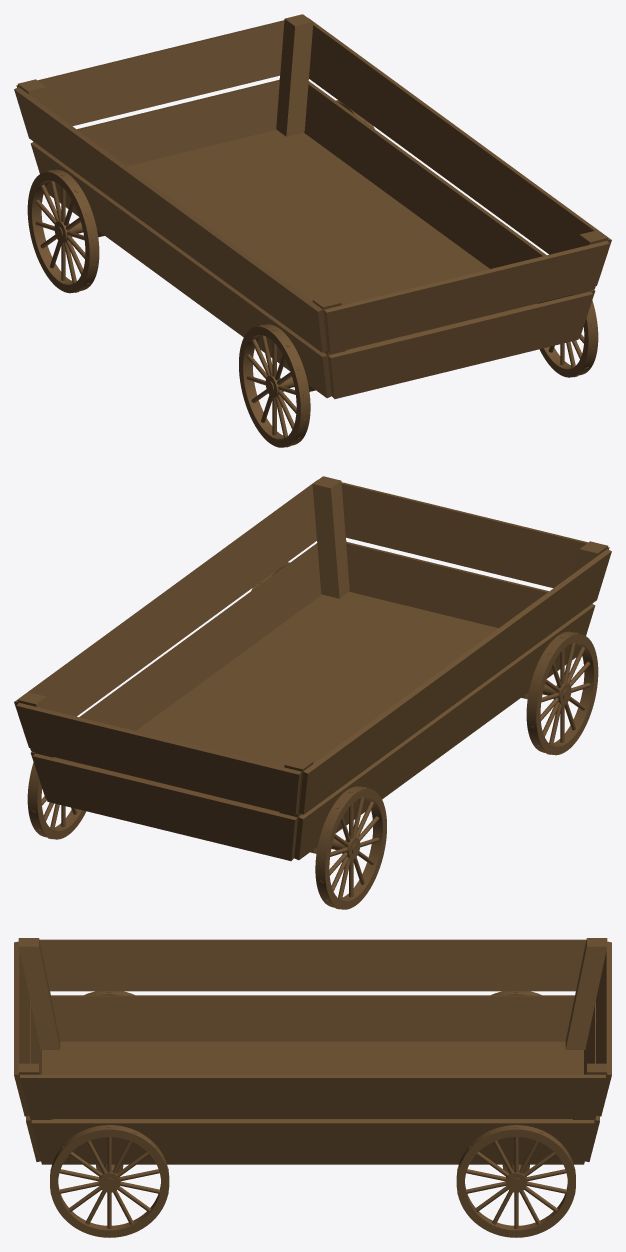
File: telega.fbx
3 renders of one model, top to bottom at view 1: azimuth 30°, elevation 25°; view 2: azimuth 150°, elevation 25°; view 3: azimuth 270°, elevation 25°, orthographic. The views are drawn at different scales.
Visible parts, largest first — view 1: Body1, Body4, Body33, Body39, Body3, Body2, Body40, Body32, Body5, Body31, Body26, Body36 (+1 smaller); view 2: Body1, Body4, Body33, Body3, Body39, Body2, Body5, Body32, Body40, Body26, Body31, Body38 (+1 smaller); view 3: Body33, Body4, Body32, Body2, Body1, Body29, Body23, Body34, Body37, Body3, Body39, Body5 (+1 smaller).
Boxes of the visible parts, <box> form: Body1: <box>97,130,537,391</box>; Body4: <box>308,18,611,285</box>; Body33: <box>14,87,326,352</box>; Body39: <box>324,240,609,353</box>; Body3: <box>16,20,284,126</box>; Body2: <box>304,81,595,336</box>; Body40: <box>328,291,593,399</box>; Body32: <box>30,142,331,398</box>; Body5: <box>33,79,279,166</box>; Body31: <box>27,169,99,293</box>; Body26: <box>239,324,310,447</box>; Body36: <box>276,14,313,136</box>; Body1: <box>88,592,528,853</box>; Body4: <box>14,480,317,747</box>; Body33: <box>299,549,611,814</box>; Body3: <box>16,702,301,815</box>; Body39: <box>341,482,609,588</box>; Body2: <box>30,543,321,798</box>; Body5: <box>32,753,297,861</box>; Body32: <box>294,604,595,860</box>; Body40: <box>346,541,592,628</box>; Body26: <box>526,631,598,755</box>; Body31: <box>315,786,386,909</box>; Body38: <box>312,476,349,598</box>; Body33: <box>39,939,586,991</box>; Body4: <box>20,1074,605,1118</box>; Body32: <box>51,995,574,1041</box>; Body2: <box>31,1120,594,1164</box>; Body1: <box>42,1041,583,1172</box>; Body29: <box>456,1125,575,1237</box>; Body23: <box>50,1125,169,1237</box>; Body34: <box>565,938,607,1049</box>; Body37: <box>18,938,60,1049</box>; Body3: <box>596,941,611,1116</box>; Body39: <box>14,941,29,1116</box>; Body5: <box>584,1003,599,1161</box>.
Bounding box in the file's own units: 61 × 33.21 × 110.
